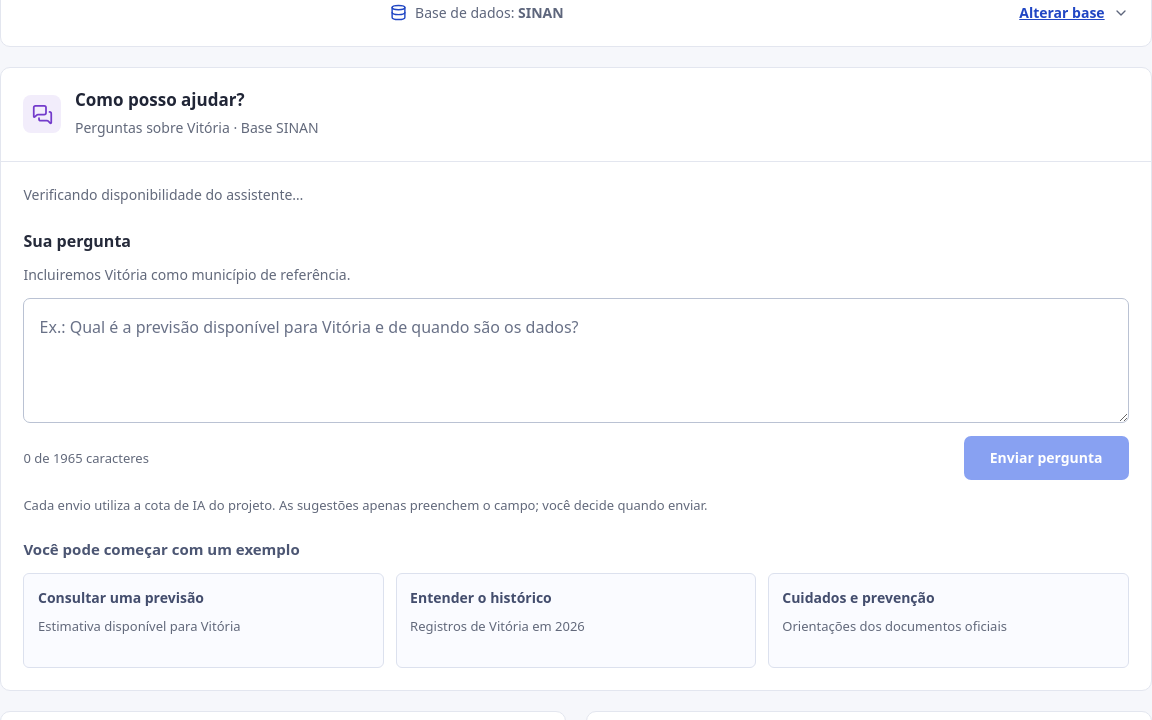
Test: conversa do assistente, sem chamadas externas › mantém a pergunta para nova tentativa manual quando o serviço falha
This screenshot has width=1152, height=720.
(page scrolled)
Replace the text in the text box labelled "Sua pergunta" with "Preciso consultar os dados.": (576, 361) [23,298,1129,423]
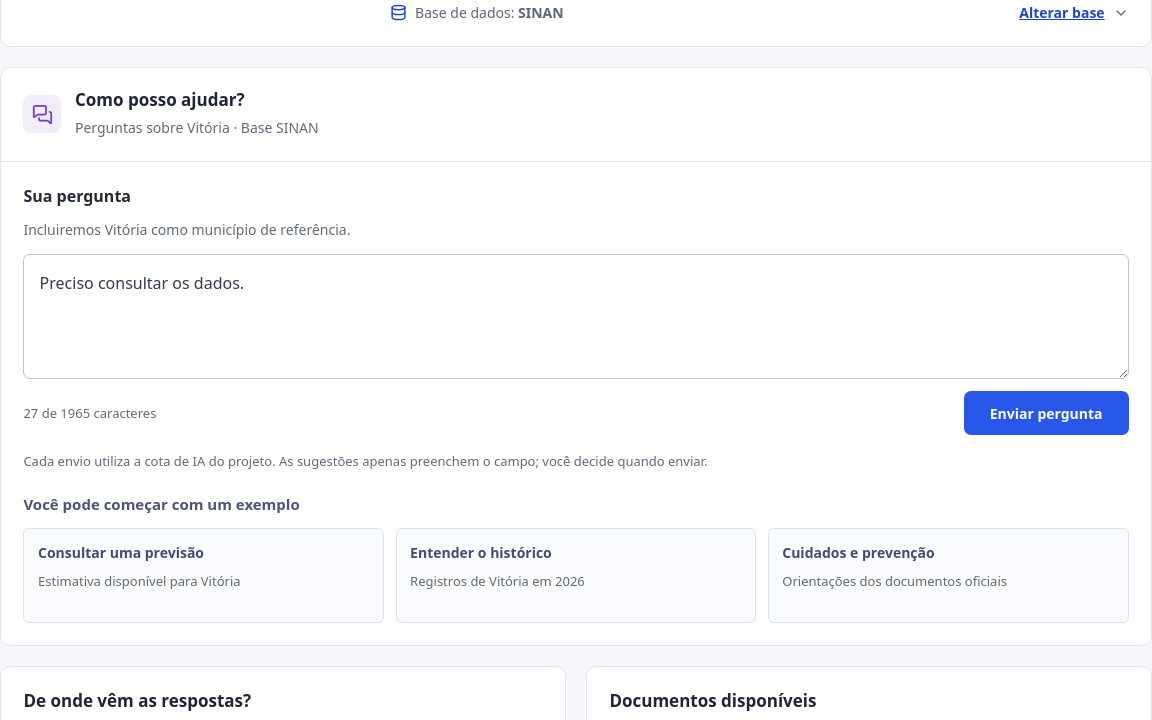
Now the button "Enviar pergunta" is enabled
Click the button "Enviar pergunta": (1046, 413) [964,391,1129,435]
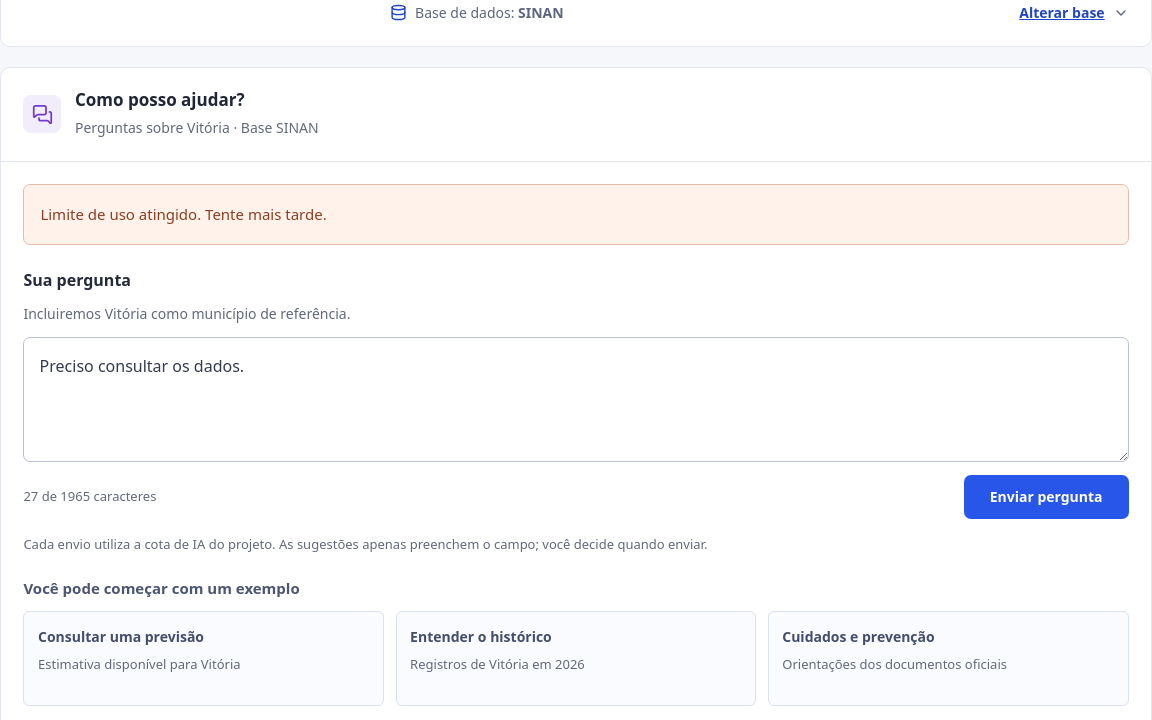
Now the button "Enviar pergunta" is enabled, box [964,475,1129,519]
Now the message "Limite de uso atingido. Tente mais tarde." is shown, box [23,184,1129,245]
